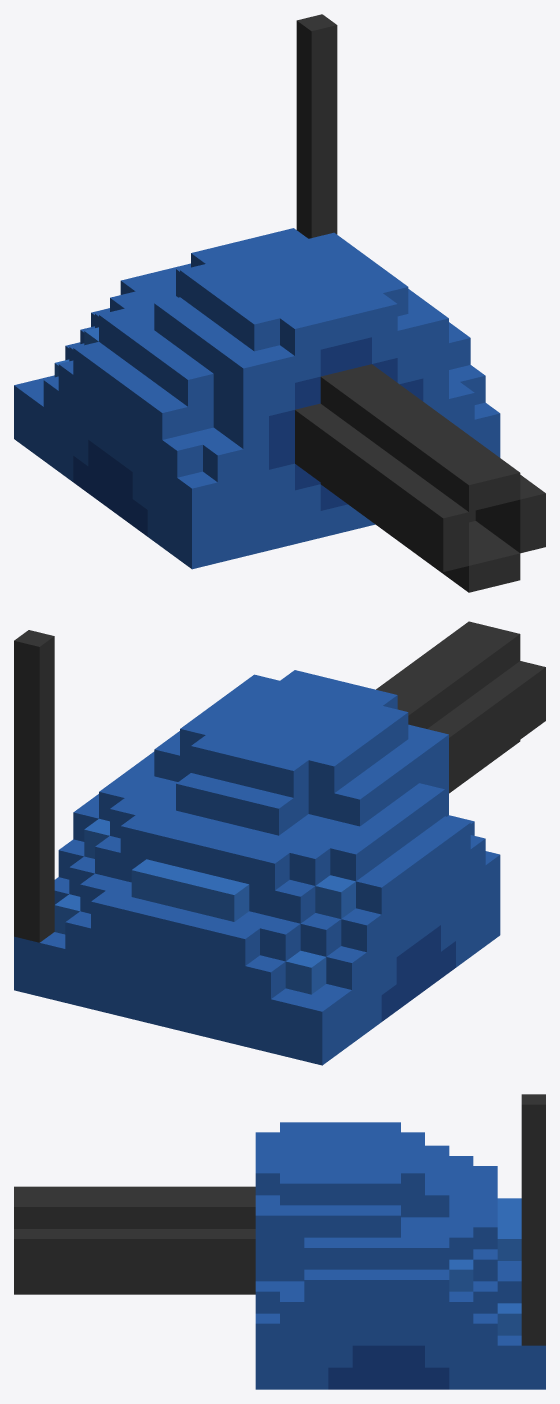
File: blueTank-1.obj
3 views of the same model, one above another, from view 1: azimuth 30°, elevation 25°; view 2: azimuth 150°, elevation 25°; view 3: azimuth 270°, elevation 25° (orthographic). The views are drawn at different scales.
Bounding box in the file's own units: 1.2 × 1.3 × 2.2.
